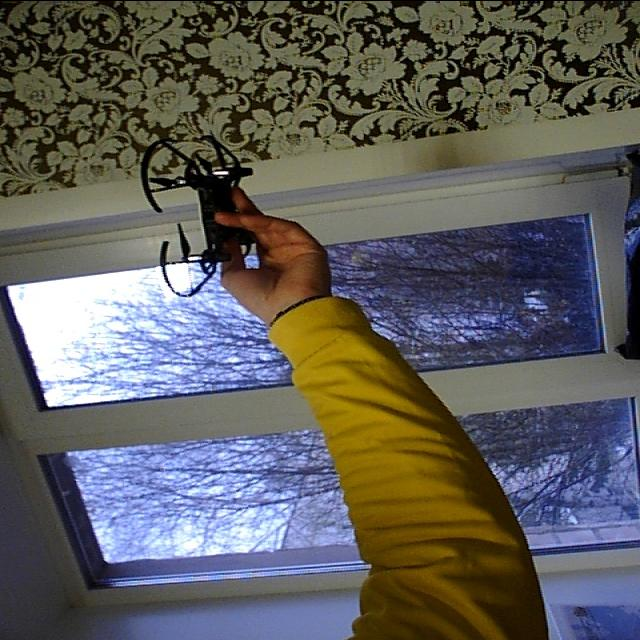drone: (132, 126, 260, 296)
